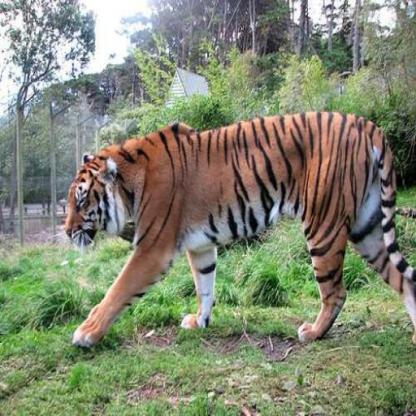Tiger: (40, 102, 415, 367)
